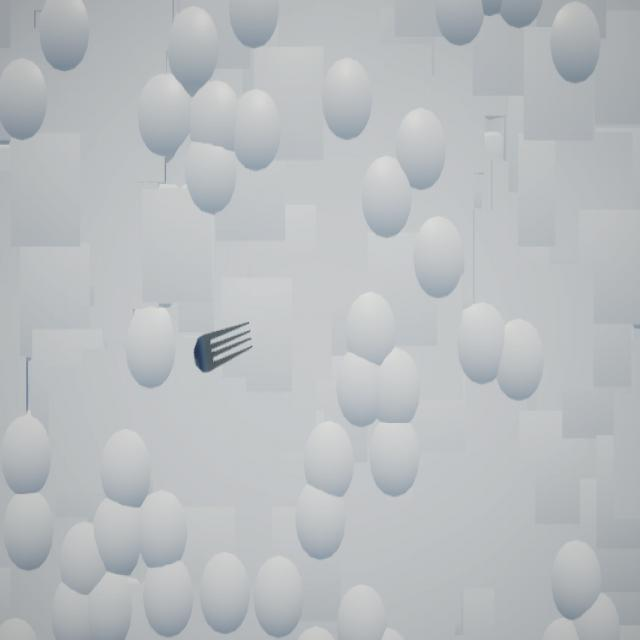top_folk: (194, 323, 254, 374)
